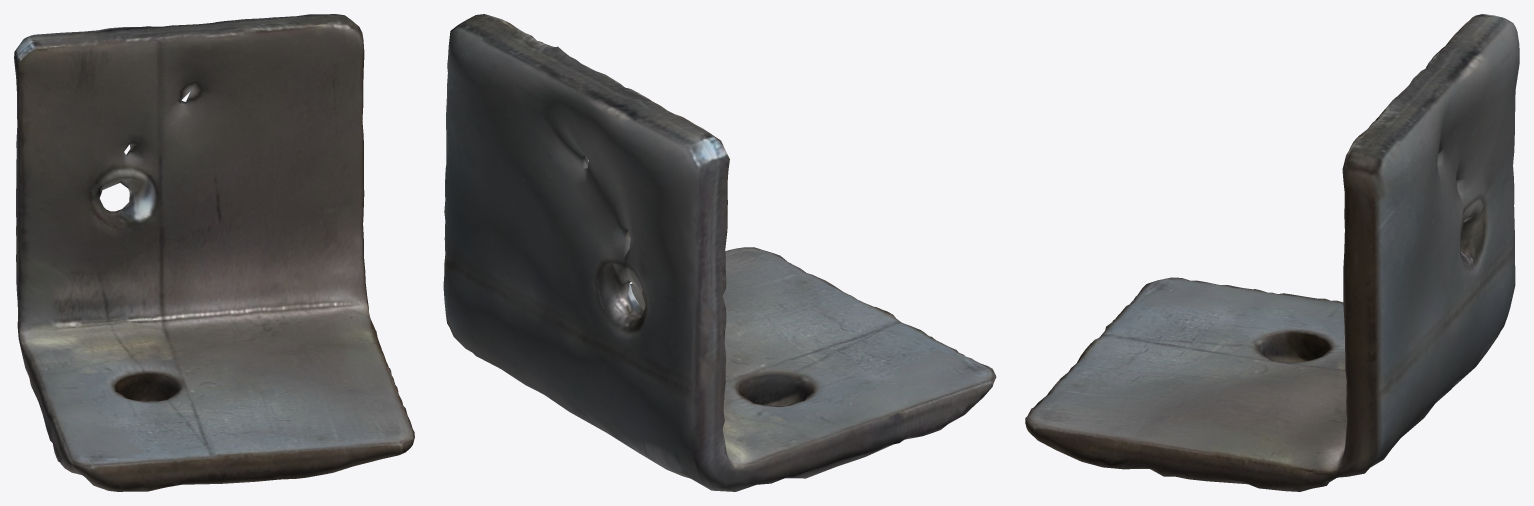
Rendered from angle_iron.obj.
The picture shows the model from 3 angles, left to right: view 1: azimuth 30°, elevation 25°; view 2: azimuth 150°, elevation 25°; view 3: azimuth 270°, elevation 25°; orthographic projection. The views are drawn at different scales.
Parts seen in each view (by area): view 1: mesh_0; view 2: mesh_0; view 3: mesh_0.
Part boxes in pixels (box(x1,y1,x2,y2)): mesh_0: box(14, 14, 414, 491); mesh_0: box(443, 14, 996, 491); mesh_0: box(1025, 14, 1519, 491).
Bounding box in the file's own units: 0.0635 × 0.053 × 0.0647.
1 material, 1 textured.
